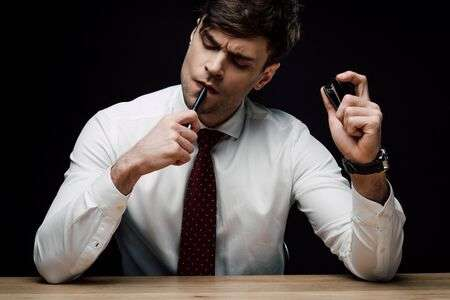F_tie: (179, 114, 218, 277)
S_shirt: (39, 83, 406, 280)
